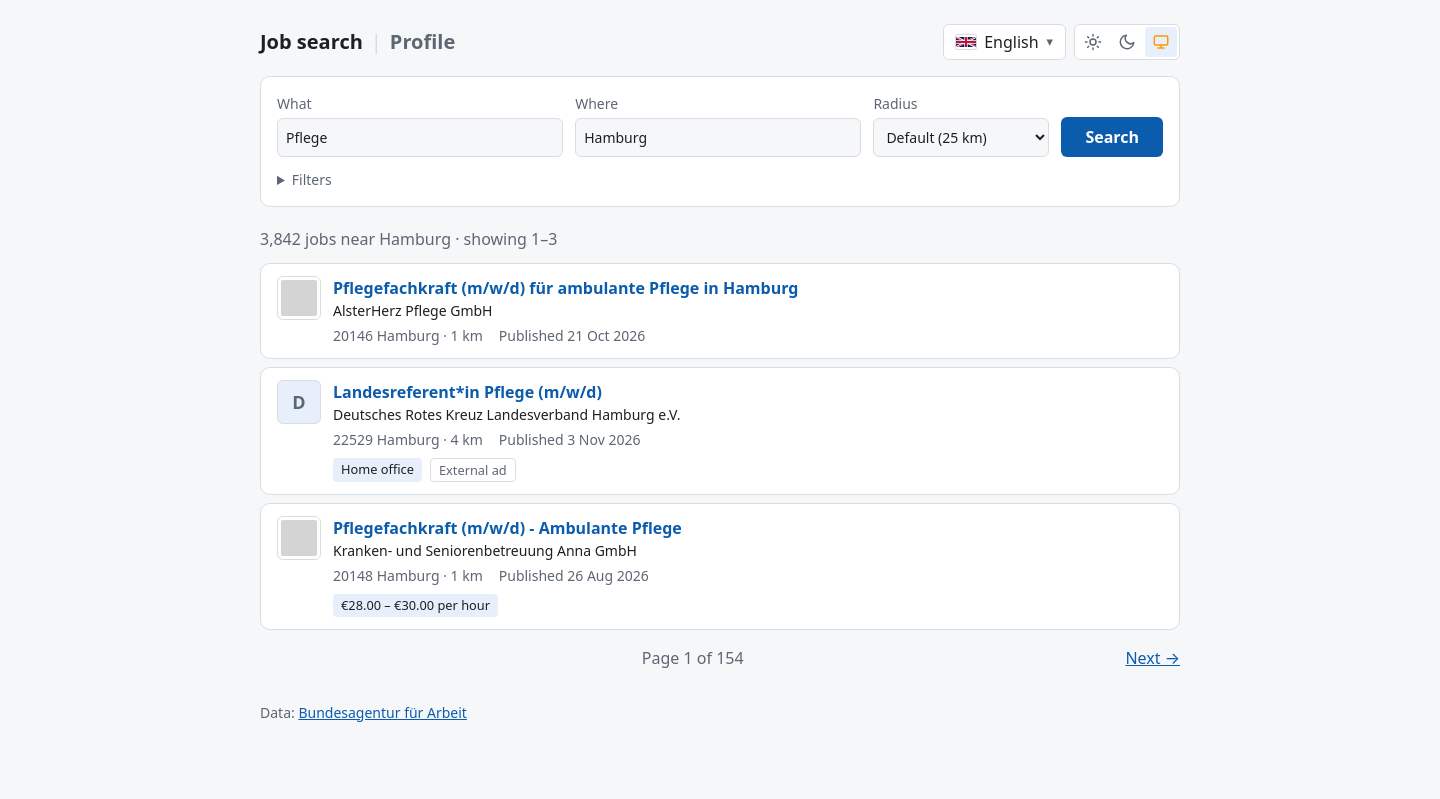
Test case: expanding cards › opens the details below the title without leaving the results
The width and height of the screenshot is (1440, 799).
Step 1. Click the link "Pflegefachkraft (m/w/d) für ambulante Pflege in Hamburg" → (566, 288), box left=333, top=277, right=798, bottom=299
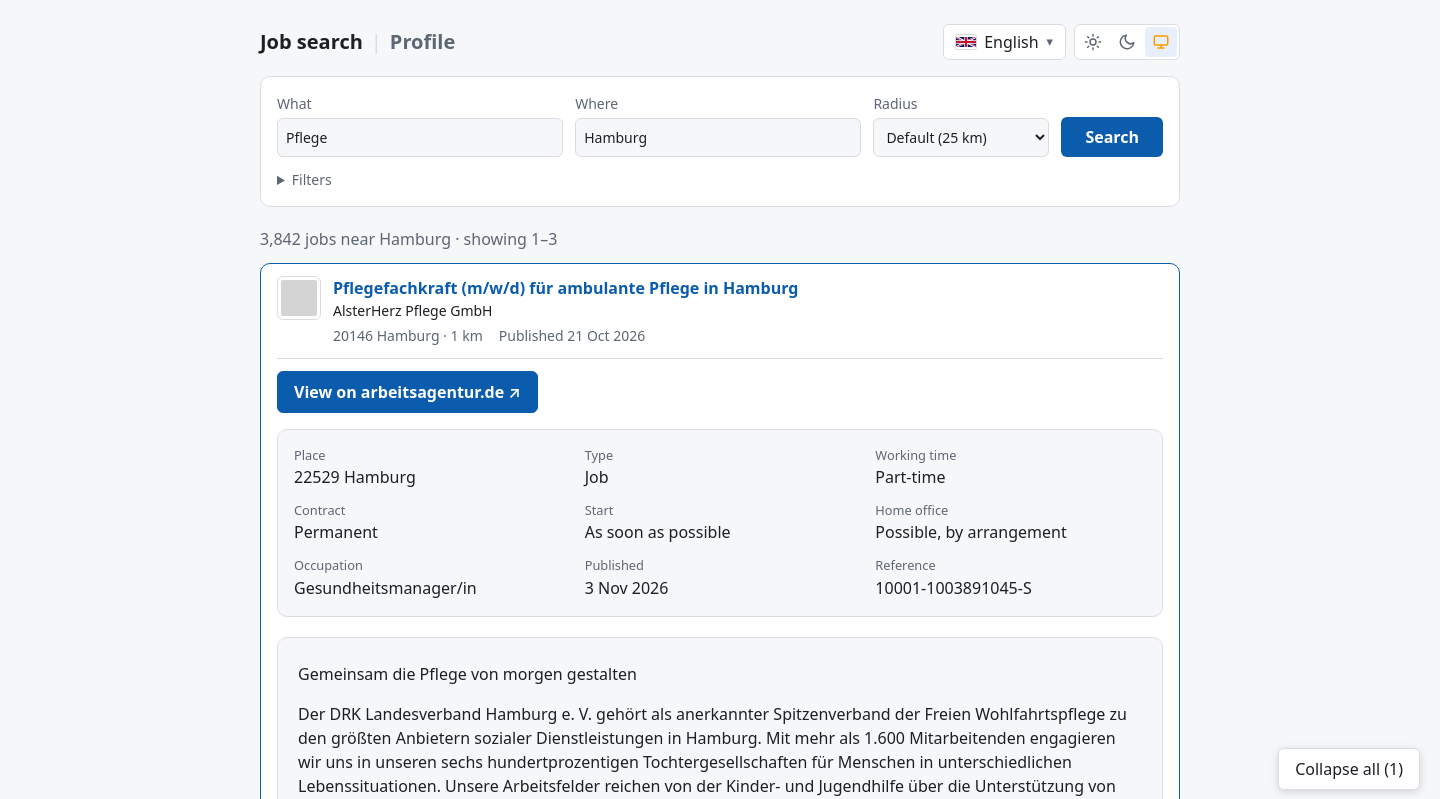
Result: the text "Gemeinsam die Pflege von morgen gestalten" is shown at left=298, top=663, right=637, bottom=685
Result: the text "Permanent" is shown at left=294, top=521, right=378, bottom=543
